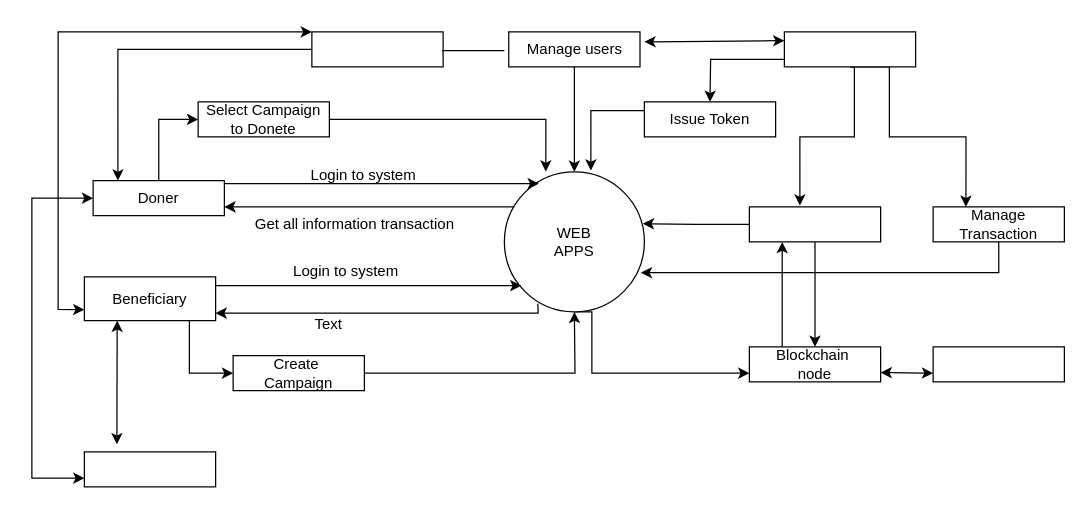
The diagram is 1086 pixels wide and 511 high, and some of its shapes have lost their labels. The centre of each missing label's shape, as x and y in pixels:
"Admin" belongs at [849,49].
"Aprove" belongs at [377,49].
"Manage campaign" belongs at [814,224].
"Metamask wallet" belongs at [149,469].
"Token" belongs at [998,364].
